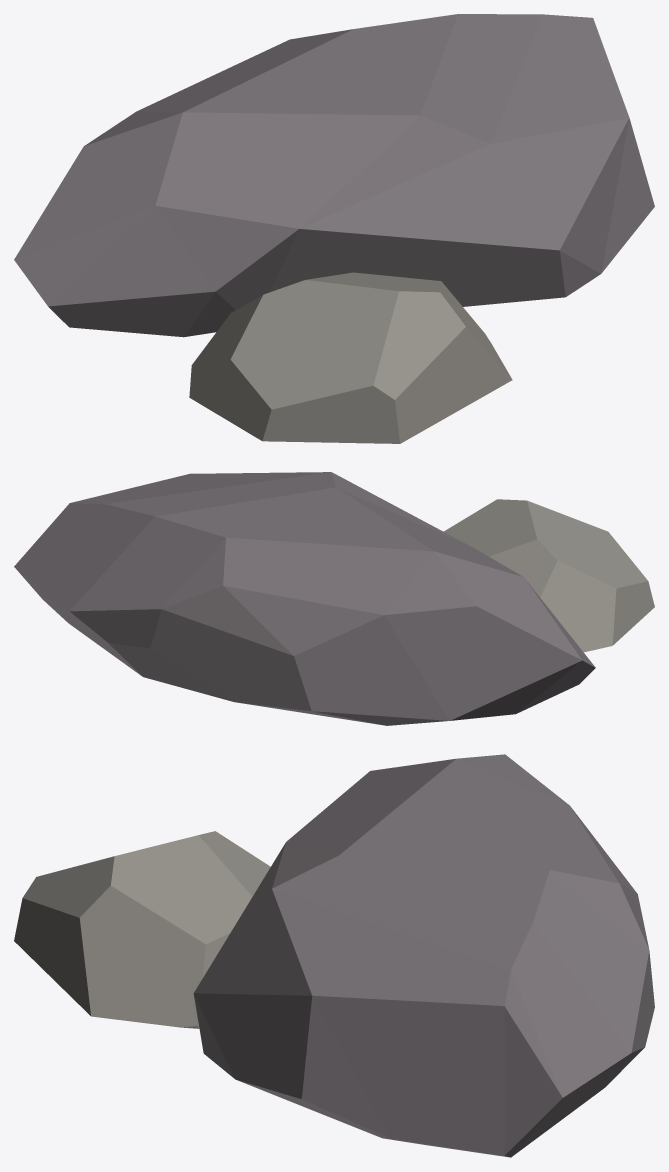
File: Rocks_Round_m_02.fbx
The picture shows the model from 3 angles, top to bottom: view 1: azimuth 30°, elevation 25°; view 2: azimuth 150°, elevation 25°; view 3: azimuth 270°, elevation 25°; orthographic projection. The views are drawn at different scales.
Parts seen in each view (by area): view 1: Rocks_Round_m_02; view 2: Rocks_Round_m_02; view 3: Rocks_Round_m_02.
Boxes of the visible parts, x1,y1,x2,y2 form: Rocks_Round_m_02: (14, 14, 654, 443); Rocks_Round_m_02: (14, 472, 654, 725); Rocks_Round_m_02: (14, 754, 654, 1157).
Bounding box in the file's own units: 182 × 46.97 × 150.
